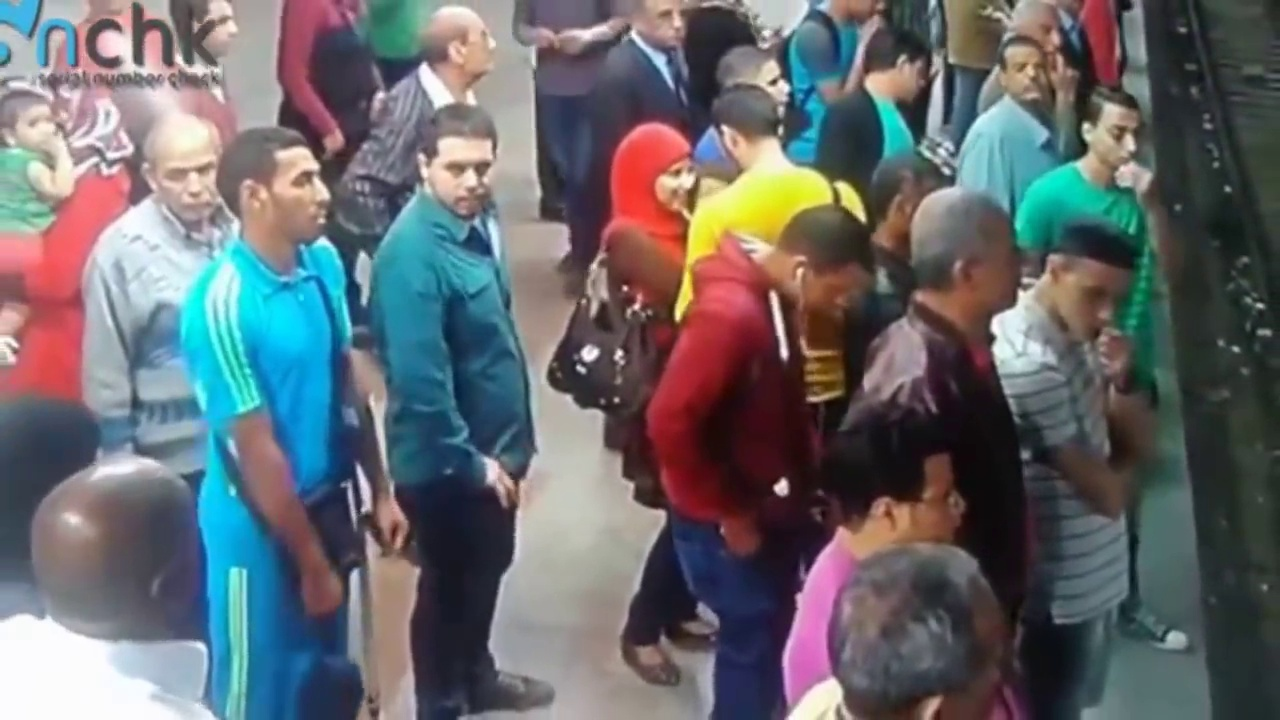face: (149, 136, 226, 224), (429, 144, 507, 226), (1064, 257, 1135, 341), (911, 458, 974, 544), (264, 153, 329, 236), (1094, 102, 1138, 167), (654, 159, 704, 211), (1003, 52, 1050, 107), (465, 19, 505, 69), (17, 109, 61, 153), (645, 2, 689, 46)
